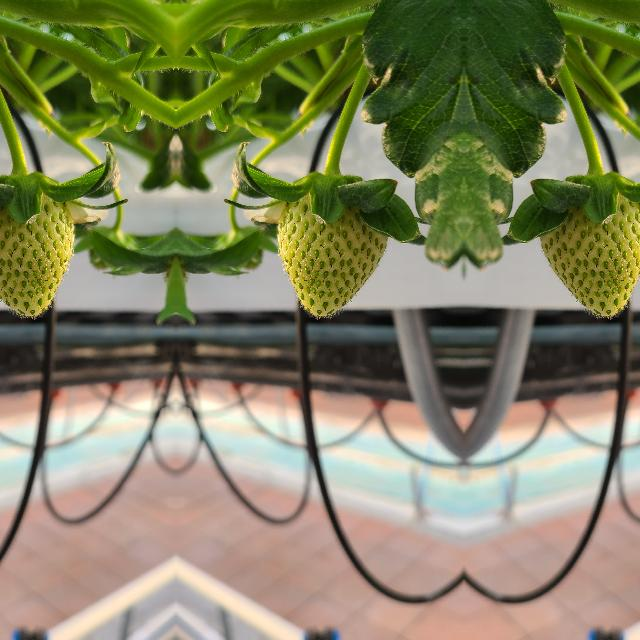Health_25: (274, 192, 386, 320), (539, 192, 640, 320), (0, 192, 76, 320)
